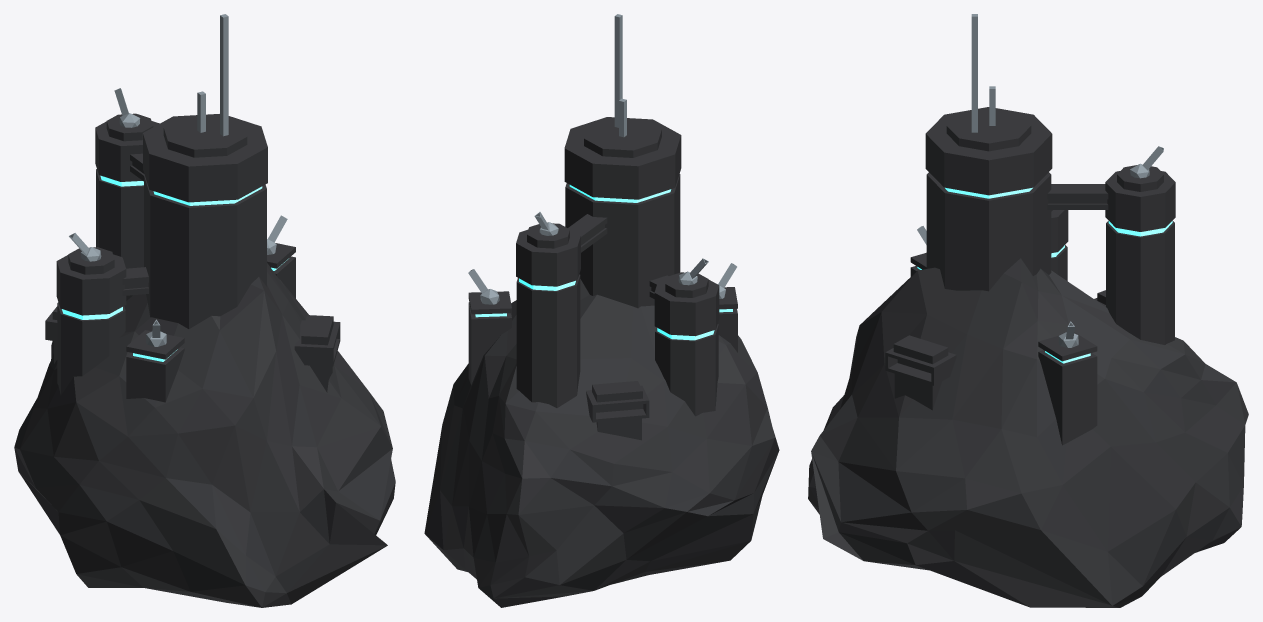
Rendered from Skybox_Castle_1.fbx.
3 renders of one model, left to right at view 1: azimuth 30°, elevation 25°; view 2: azimuth 150°, elevation 25°; view 3: azimuth 270°, elevation 25°, orthographic. The views are drawn at different scales.
Visible parts, largest first — view 1: Castle_1; view 2: Castle_1; view 3: Castle_1.
Boxes of the visible parts, box(x1,y1,x2,y2) form: Castle_1: box(14, 14, 395, 607); Castle_1: box(424, 14, 779, 607); Castle_1: box(808, 14, 1248, 607).
Size of the model in its own units: 5.65 by 9.67 by 7.08.
